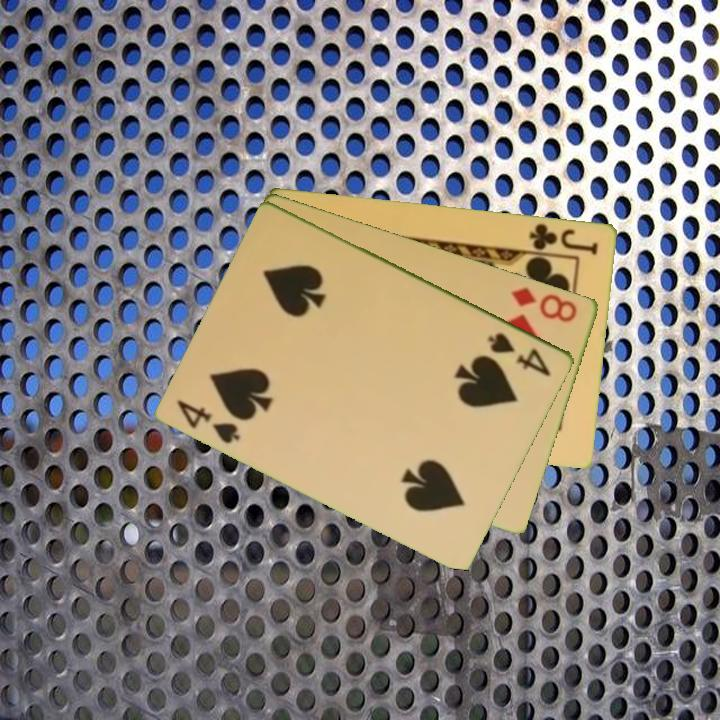4s: (484, 329, 555, 380), (174, 395, 244, 446)
8d: (508, 283, 581, 325)
Jc: (526, 219, 602, 258)
